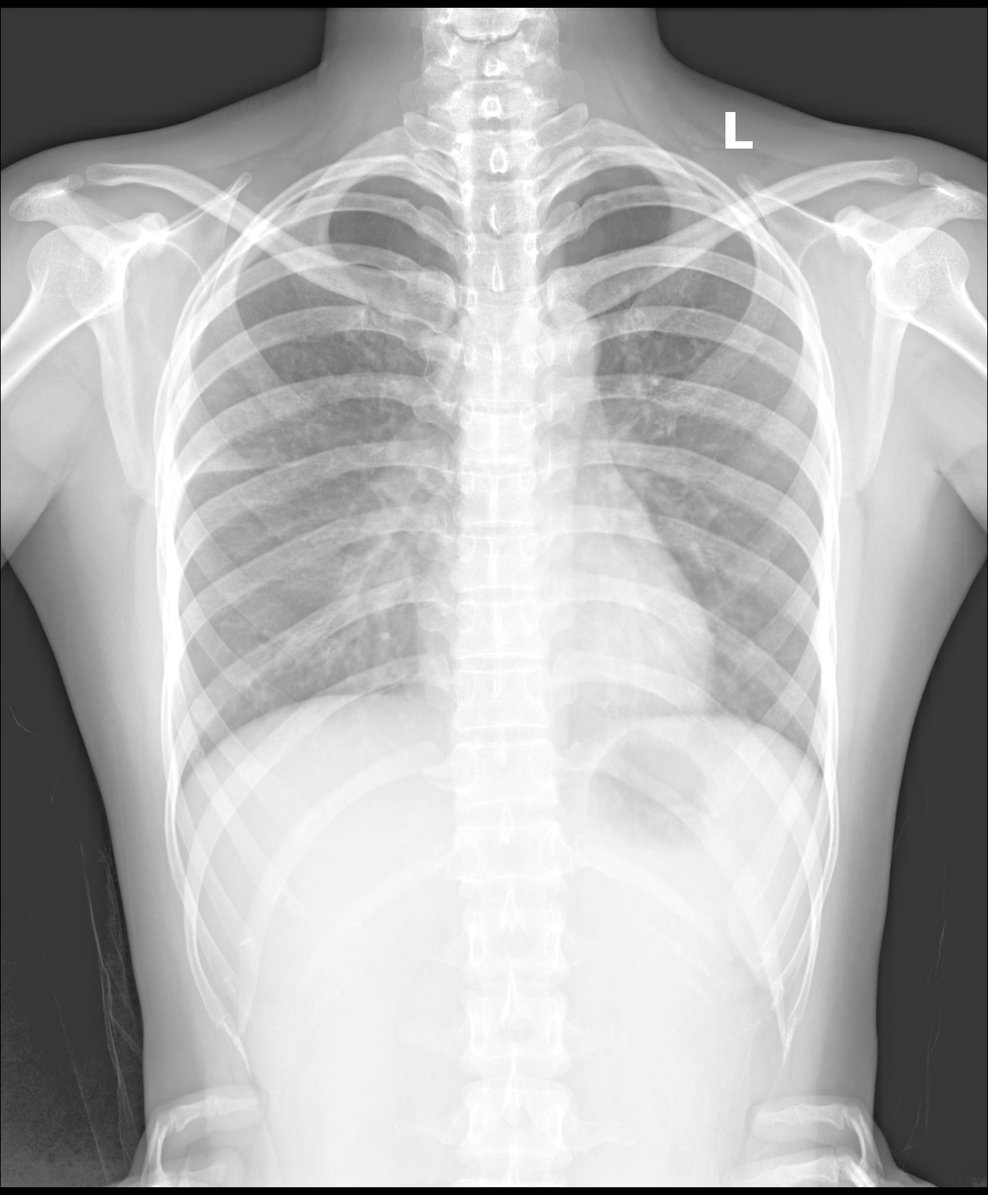Pulmonary fibrosis: (186, 450, 262, 475)
